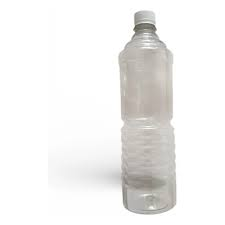Botella: (119, 11, 175, 213)
